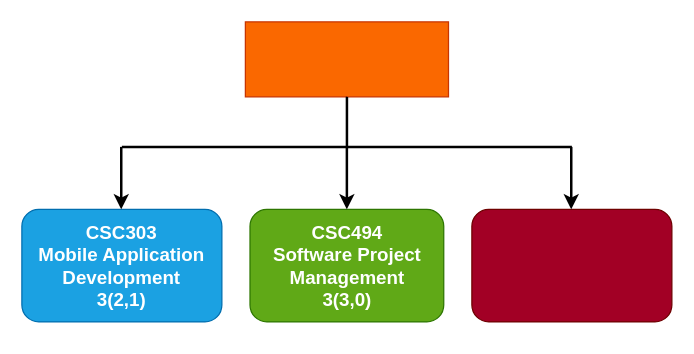
This 694x354 diagram has some shape labels left out. Each missing label, with the centre of its shape:
CSC495 Game Development 3(3,0): point (571, 265)
Software Development: point (346, 59)
